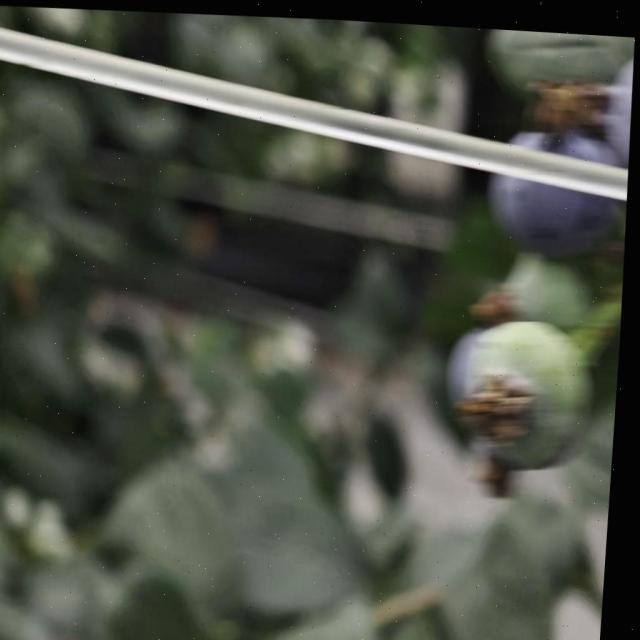RipeBlueBerry: (493, 118, 633, 247)
